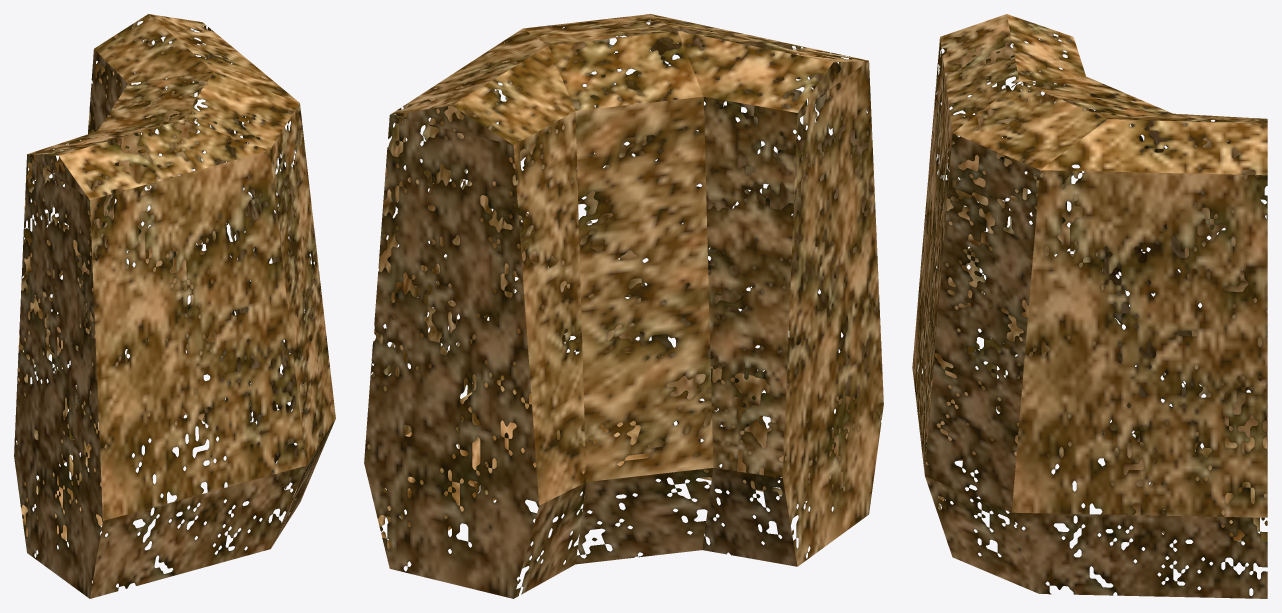
File: bush_long_round_corner_autumn.fbx
The picture shows the model from 3 angles, left to right: view 1: azimuth 30°, elevation 25°; view 2: azimuth 150°, elevation 25°; view 3: azimuth 270°, elevation 25°; orthographic projection. The views are drawn at different scales.
Parts seen in each view (by area): view 1: bush_long_round_corner_autumn; view 2: bush_long_round_corner_autumn; view 3: bush_long_round_corner_autumn.
Boxes of the visible parts, x1=… form: bush_long_round_corner_autumn: x1=14, y1=14, x2=335, y2=598; bush_long_round_corner_autumn: x1=364, y1=14, x2=883, y2=598; bush_long_round_corner_autumn: x1=912, y1=14, x2=1267, y2=598.
Bounding box in the file's own units: 135 × 188 × 135.
Materials: 1 (1 with a texture image).
